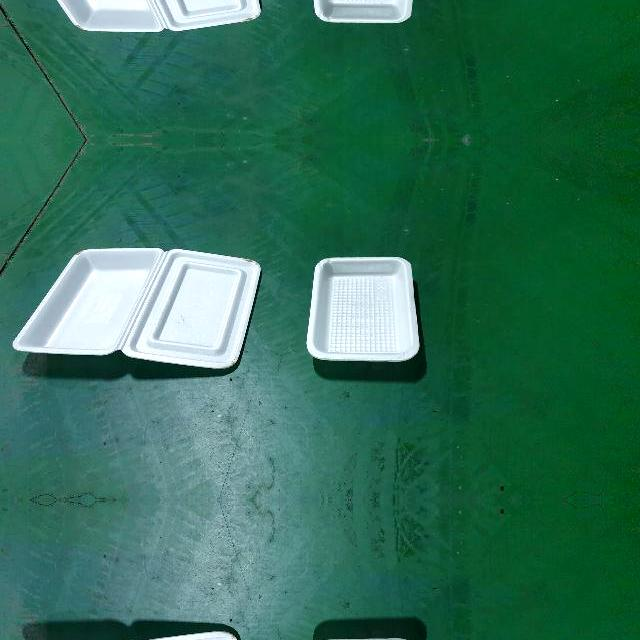Styrofoam: (12, 246, 264, 372), (12, 248, 260, 368), (306, 254, 422, 366), (307, 256, 420, 362), (12, 0, 263, 33), (55, 0, 260, 32), (306, 0, 421, 26), (314, 0, 414, 24)
